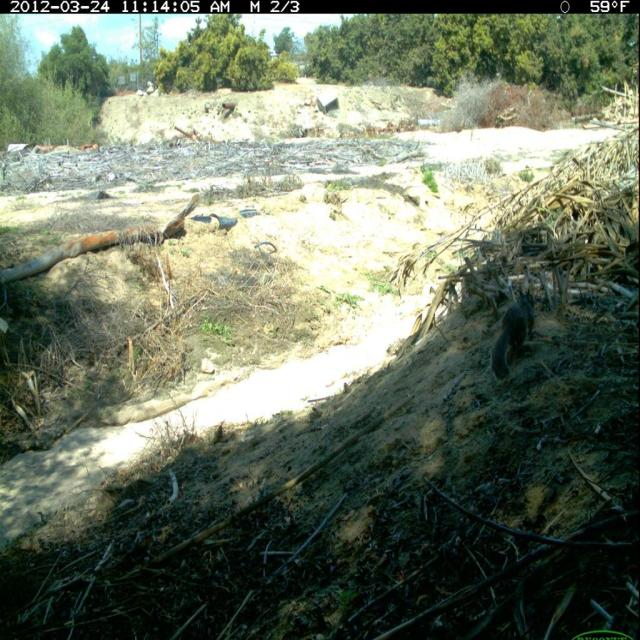squirrel: (487, 286, 541, 386)
